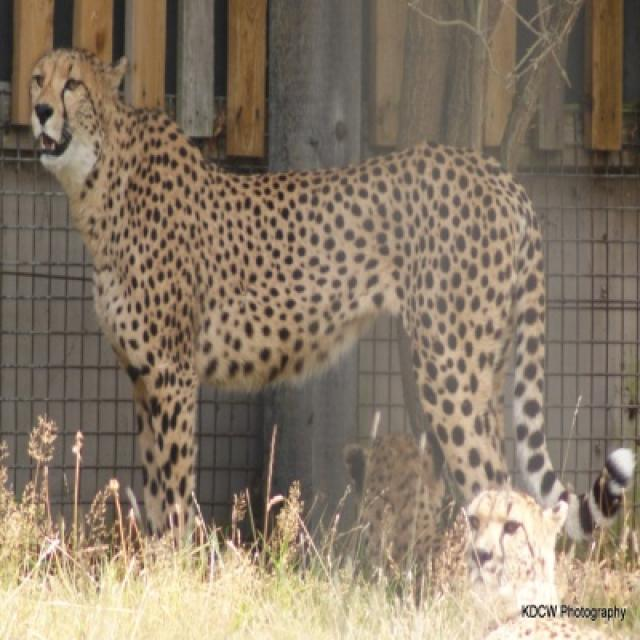Cheetah: (27, 48, 595, 590)
